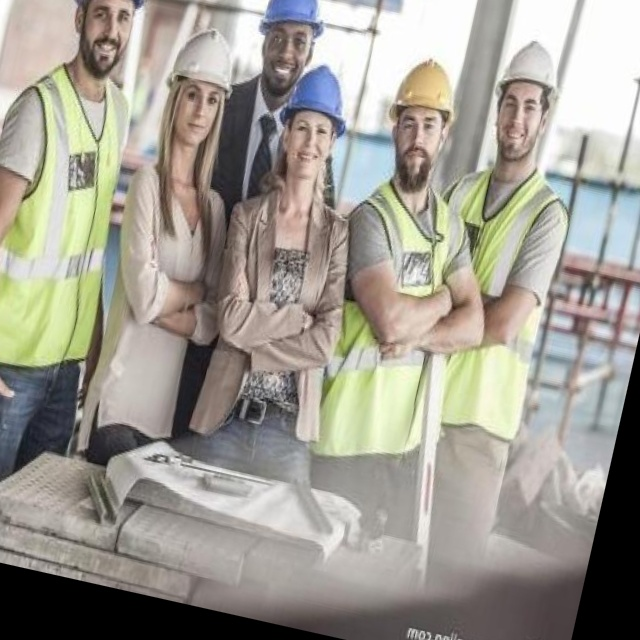Con_Casco: (483, 34, 565, 157)
Con_Chaleco: (310, 184, 481, 468), (0, 54, 144, 378)
Sin_Chaleco: (199, 180, 356, 439), (81, 165, 228, 428)
